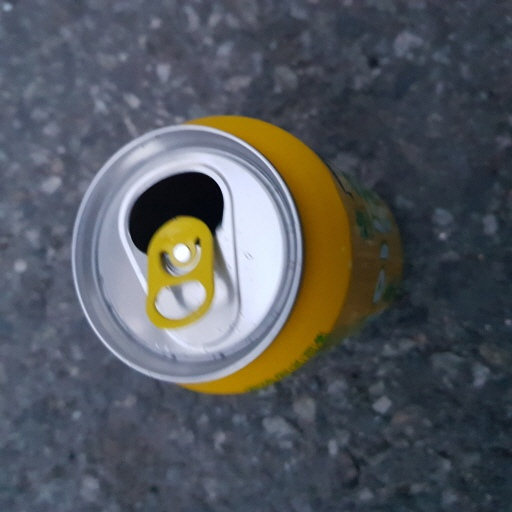Metal_0: (70, 112, 406, 394)
